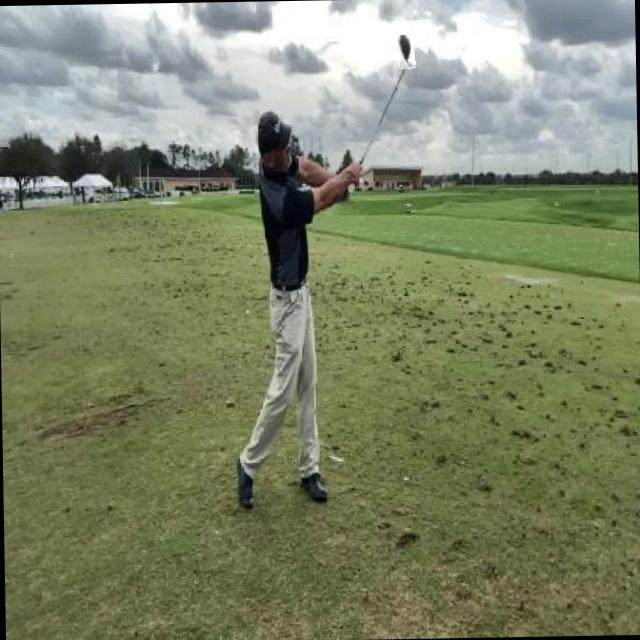club head: (398, 34, 415, 68)
